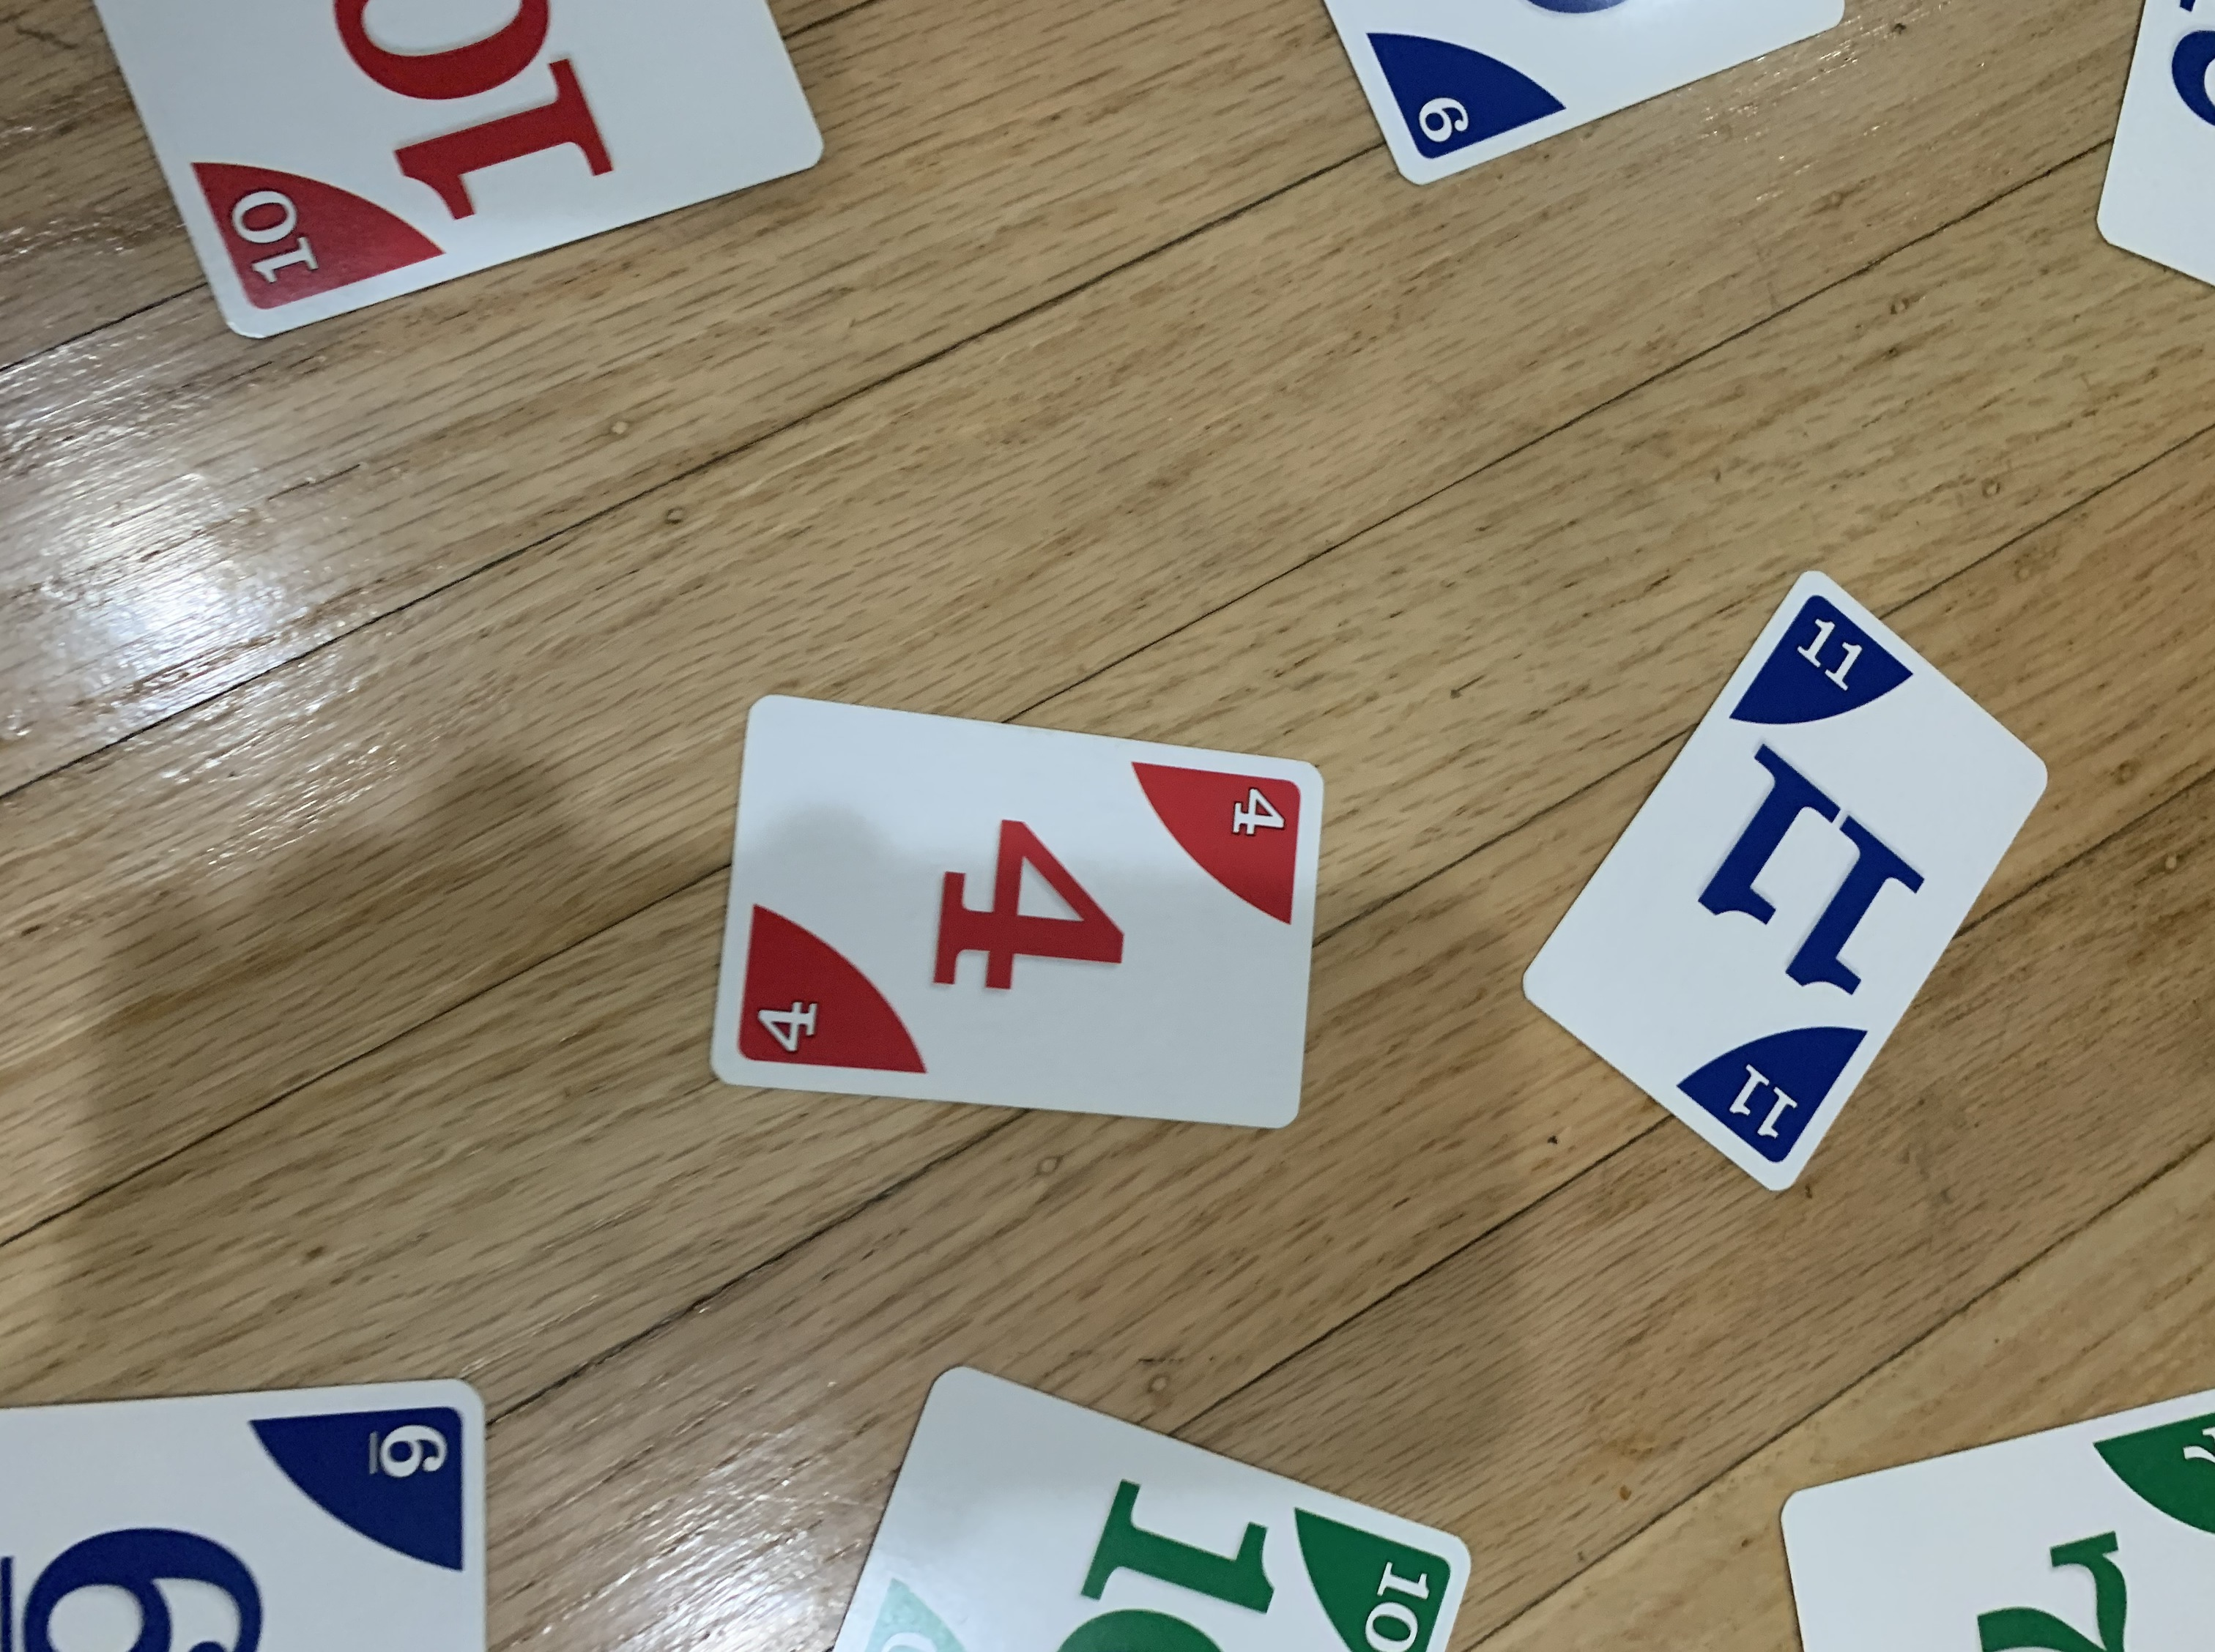eleven: (1498, 554, 2055, 1189)
four: (686, 675, 1345, 1147)
